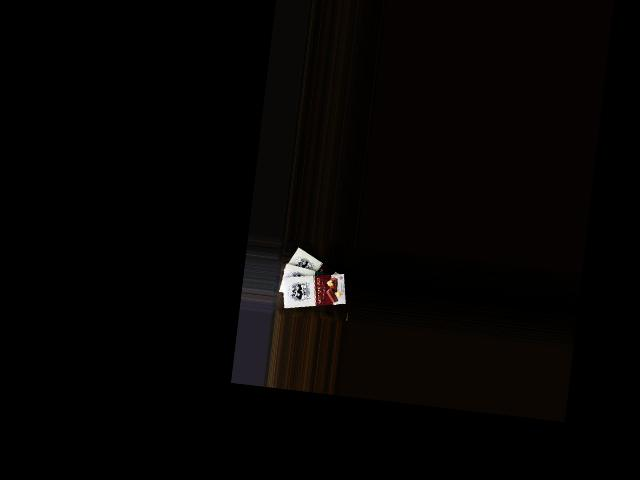chocolate: (279, 245, 351, 294)
